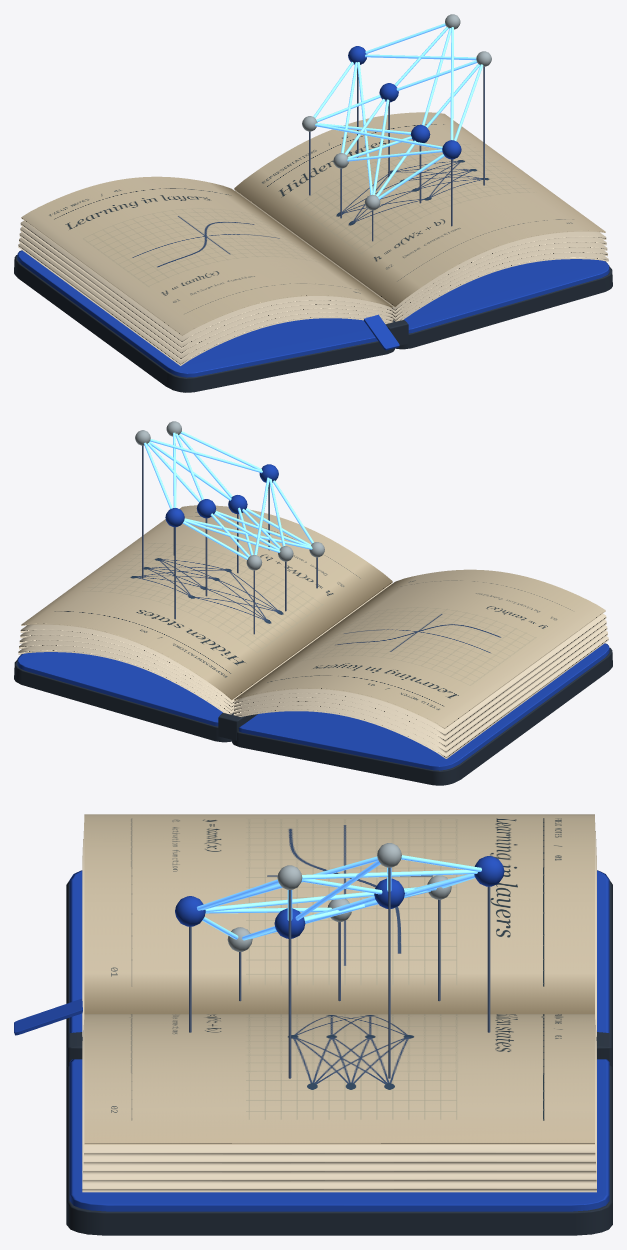
File: atlas.glb
3 views of the same model, one above another, from view 1: azimuth 30°, elevation 25°; view 2: azimuth 150°, elevation 25°; view 3: azimuth 270°, elevation 25° (orthographic). The views are drawn at different scales.
Parts seen in each view (by area): view 1: Knowledge Atlas; view 2: Knowledge Atlas; view 3: Knowledge Atlas.
Boxes of the visible parts, x1,y1,x2,y2 form: Knowledge Atlas: (14, 14, 612, 392); Knowledge Atlas: (14, 421, 612, 785); Knowledge Atlas: (14, 814, 612, 1235).
Bounding box in the file's own units: 3.83 × 1.86 × 2.83.
8 materials, 2 textured.
